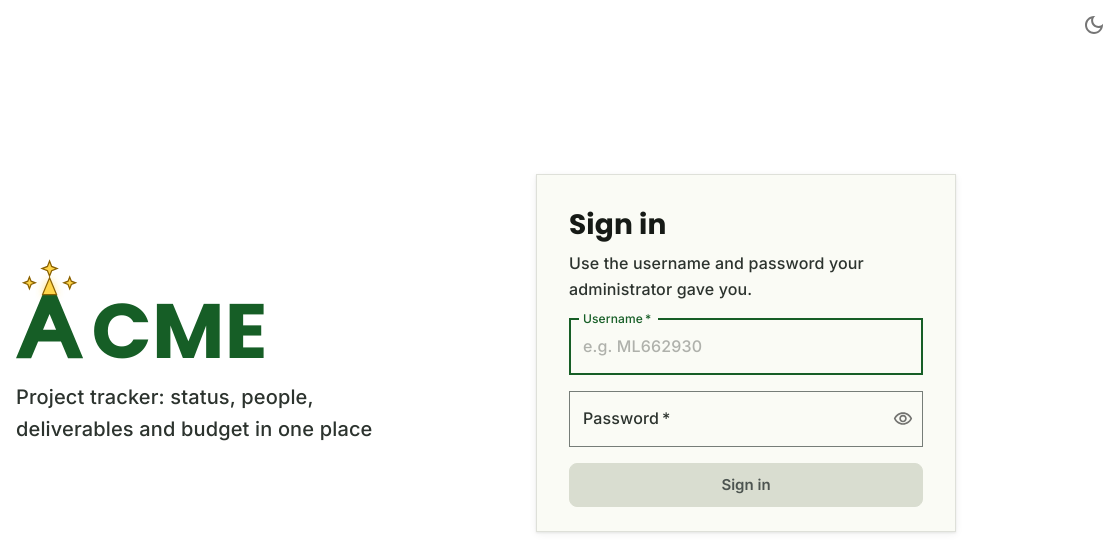
Test: LoginPage › shows the typed password when you press the eye, and hides it again
Type "Demo-pass-2026" into the password field labelled "Password *" at (723, 419), box [569,391,877,447]
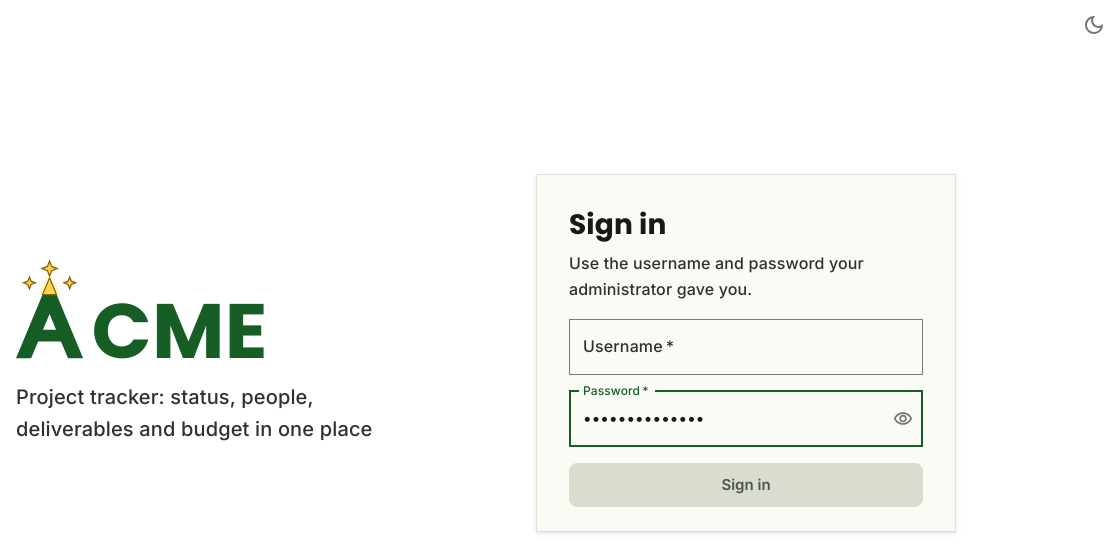
Click the button named "Show password" at (903, 419), box [885,401,921,437]
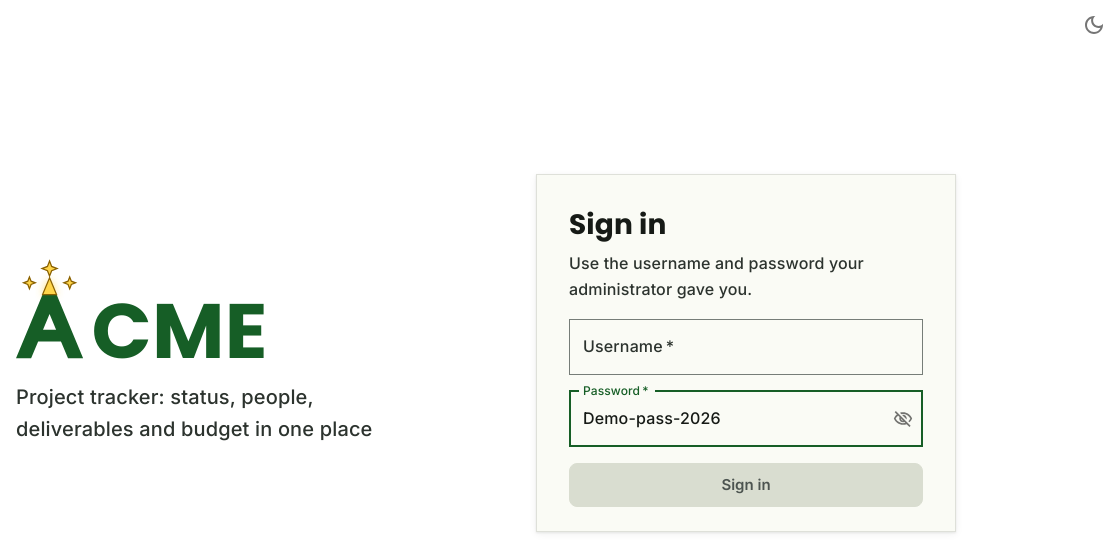
Expected: the field labelled "Password *" shows its text, [569,391,877,447]
Click the button named "Hide password" at (903, 419), box [885,401,921,437]
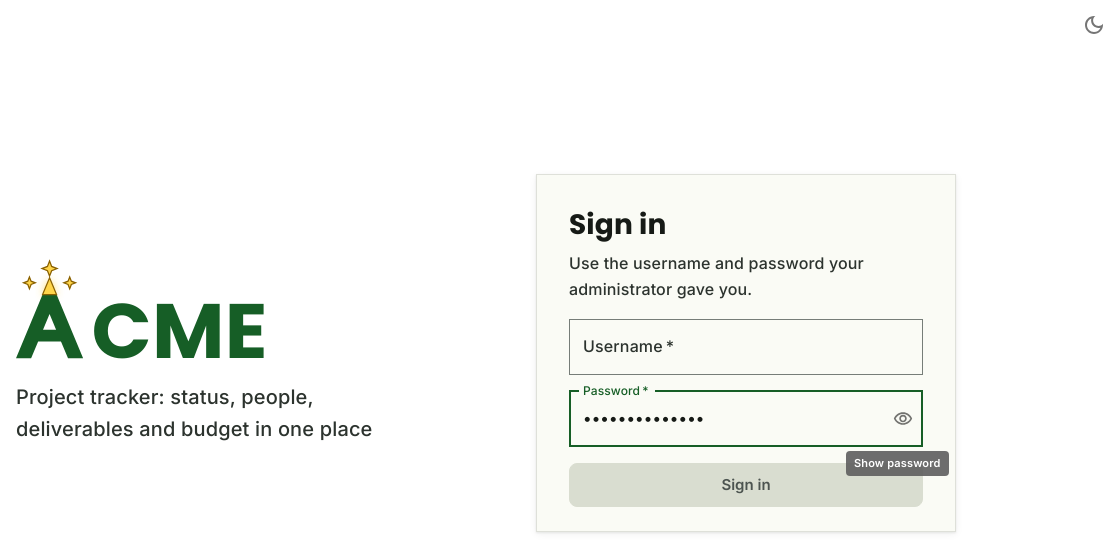
Expected: the password field labelled "Password *" hides its text, [569,391,877,447]
